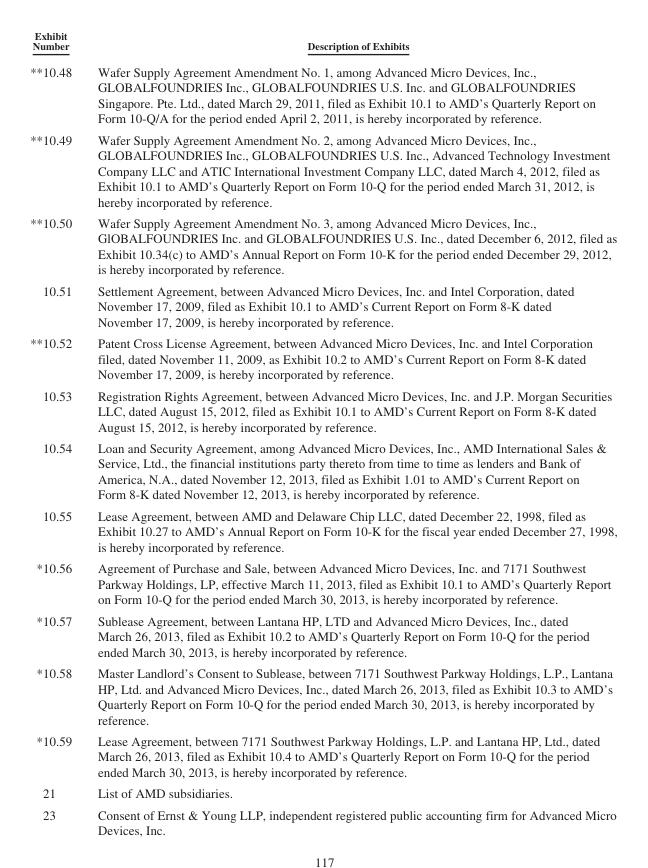table: (29, 29, 616, 837)
table column: (84, 29, 616, 837), (29, 29, 84, 837)
table column header: (29, 29, 616, 57)
table row: (29, 128, 616, 211), (29, 57, 616, 128), (29, 211, 616, 279), (29, 436, 616, 504), (29, 661, 616, 729), (29, 279, 616, 332), (29, 504, 616, 557), (29, 729, 616, 782), (29, 332, 616, 384), (29, 384, 616, 436), (29, 557, 616, 609), (29, 609, 616, 661), (29, 803, 616, 837), (29, 29, 616, 57), (29, 782, 616, 803)
